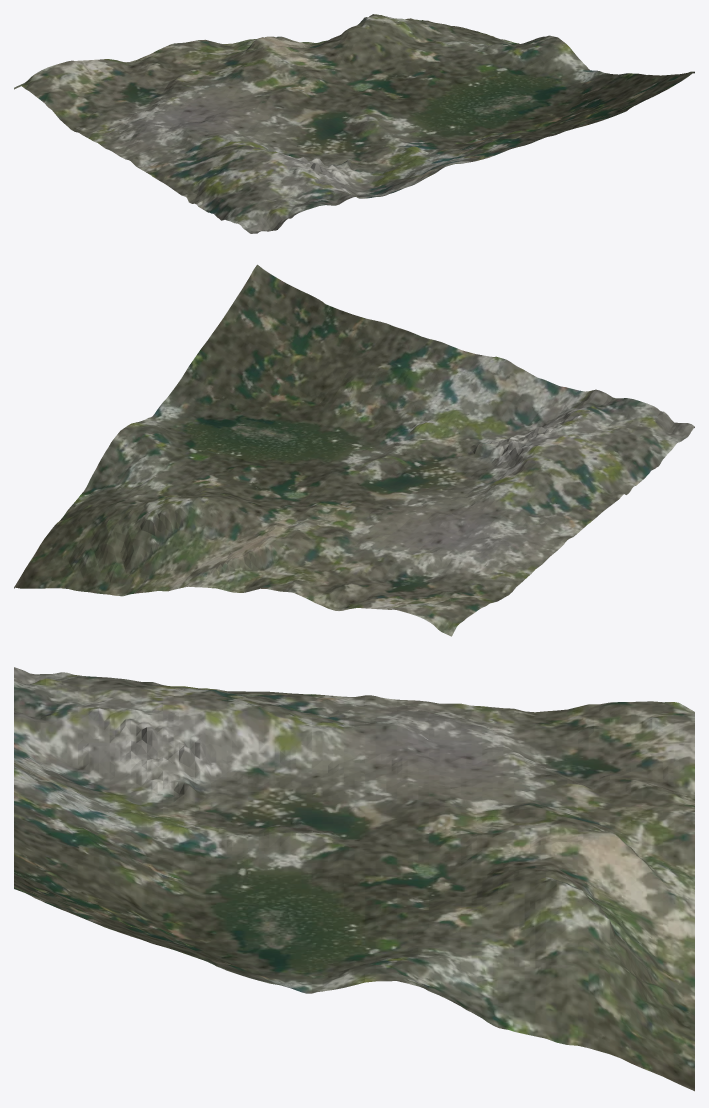
3 views of the same model, one above another, from view 1: azimuth 30°, elevation 25°; view 2: azimuth 150°, elevation 25°; view 3: azimuth 270°, elevation 25° (orthographic). The views are drawn at different scales.
Bounding box in the file's own units: 250 × 80.12 × 241.
1 material, 1 textured.
